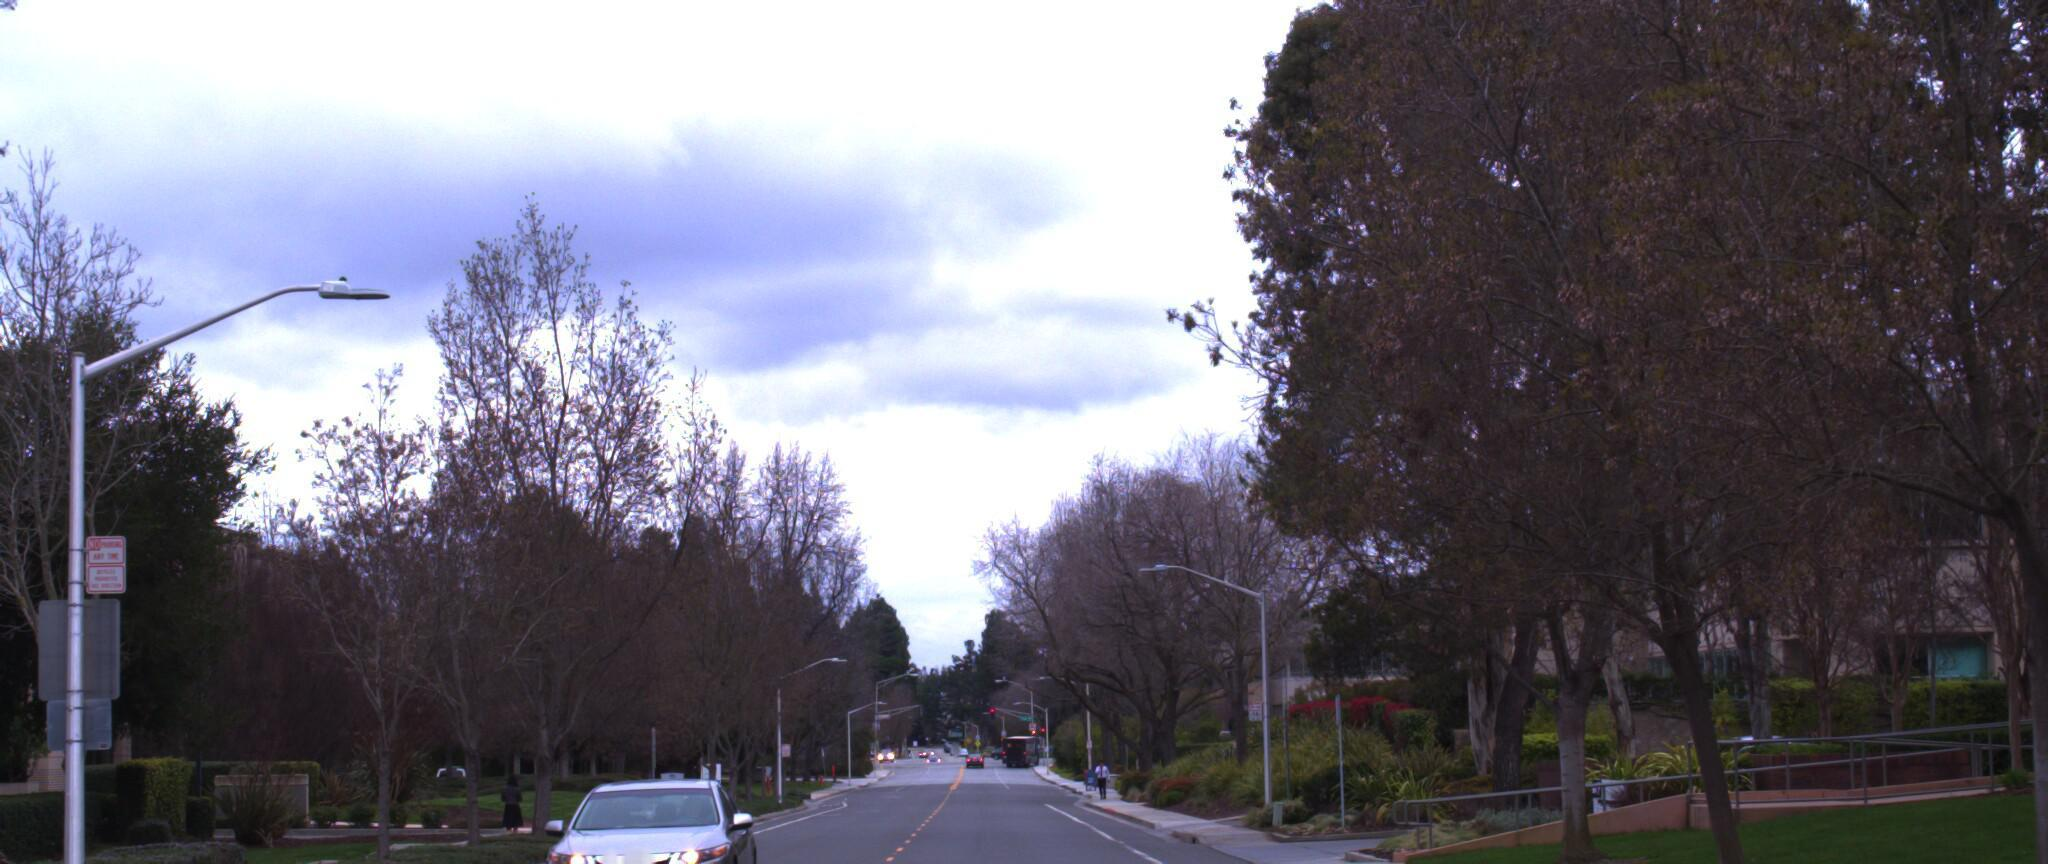car: (547, 778, 778, 864)
